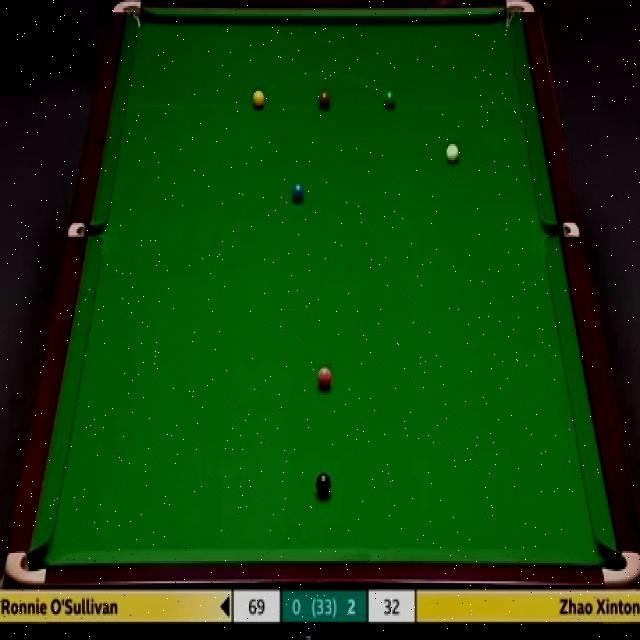black-ball: (314, 470, 332, 498)
blue-ball: (292, 182, 306, 204)
brown-ball: (317, 88, 332, 109)
green-ball: (382, 89, 396, 110)
pink-ball: (316, 366, 332, 389)
white-ball: (445, 143, 459, 165)
yellow-ball: (252, 87, 266, 108)
